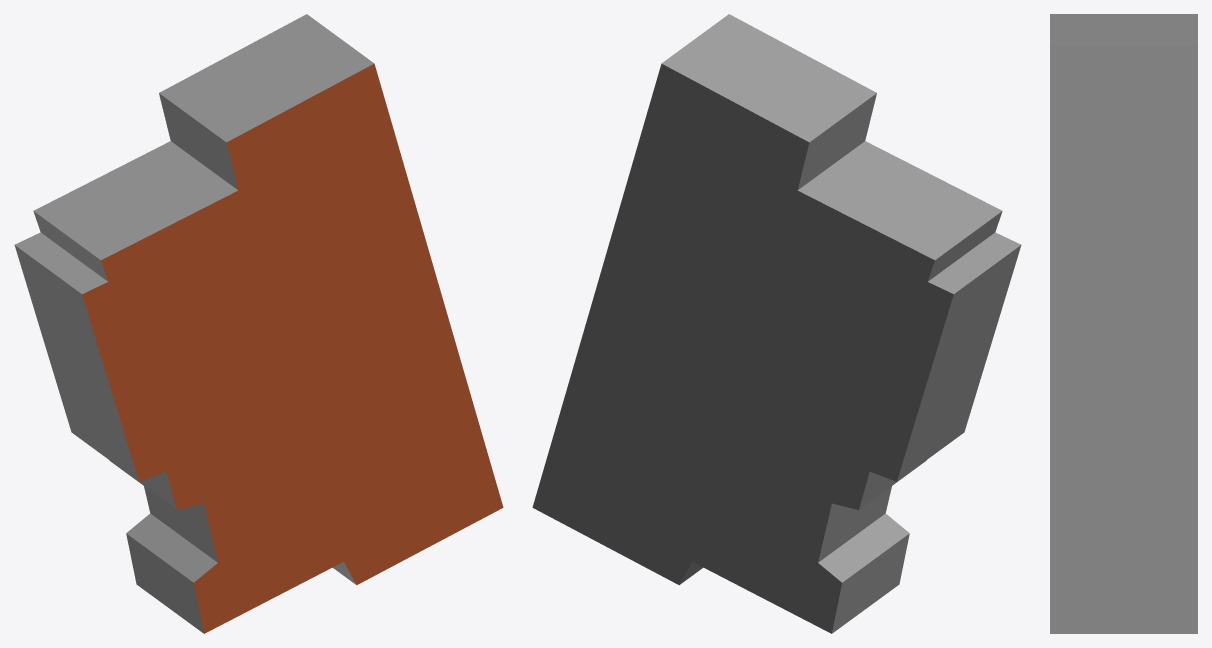
File: construction_4309_assumed_A_Casa_h6m.obj
The picture shows the model from 3 angles, left to right: view 1: azimuth 30°, elevation 25°; view 2: azimuth 150°, elevation 25°; view 3: azimuth 270°, elevation 25°; orthographic projection. The views are drawn at different scales.
Visible parts, largest first — view 1: construction_4309_assumed_A_Casa; view 2: construction_4309_assumed_A_Casa; view 3: construction_4309_assumed_A_Casa.
Boxes of the visible parts, x1,y1,x2,y2 form: construction_4309_assumed_A_Casa: [14, 14, 503, 633]; construction_4309_assumed_A_Casa: [532, 14, 1021, 633]; construction_4309_assumed_A_Casa: [1050, 14, 1197, 633].
Bounding box in the file's own units: 21.58 × 25.88 × 6.
